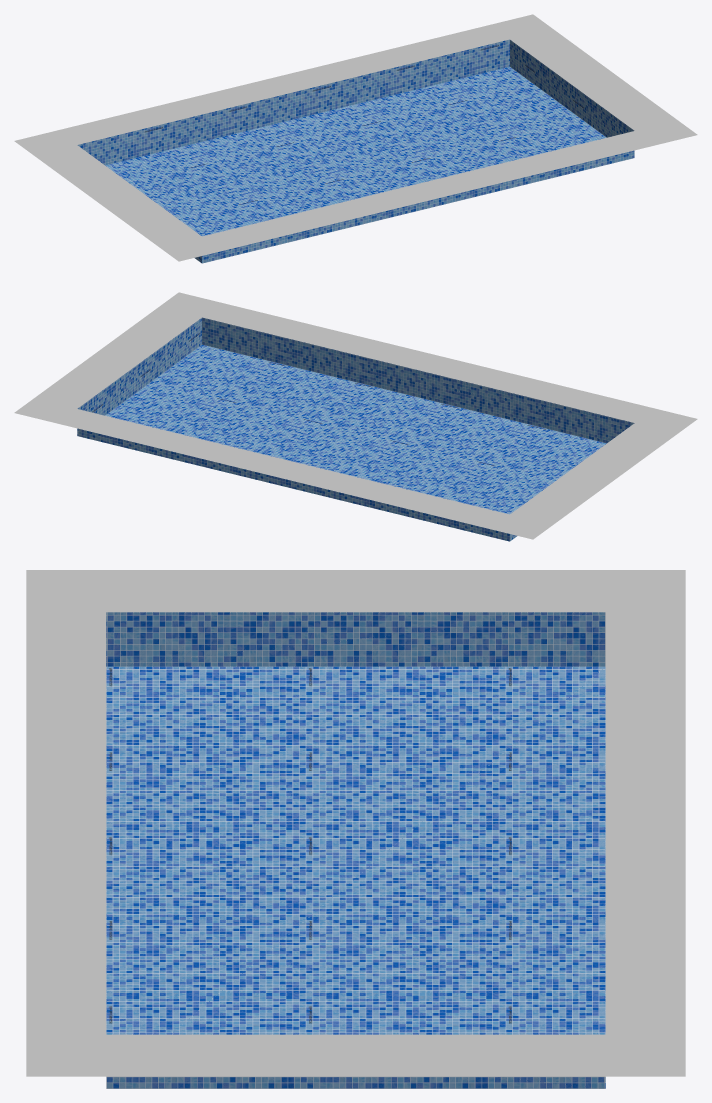
File: havuz.obj
3 views of the same model, one above another, from view 1: azimuth 30°, elevation 25°; view 2: azimuth 150°, elevation 25°; view 3: azimuth 270°, elevation 25° (orthographic). The views are drawn at different scales.
Visible parts, largest first — view 1: Cube; view 2: Cube; view 3: Cube.
Boxes of the visible parts, x1,y1,x2,y2 form: Cube: [14, 14, 697, 263]; Cube: [14, 292, 697, 541]; Cube: [26, 570, 685, 1088].
Size of the model in its own units: 60 by 3 by 33.
